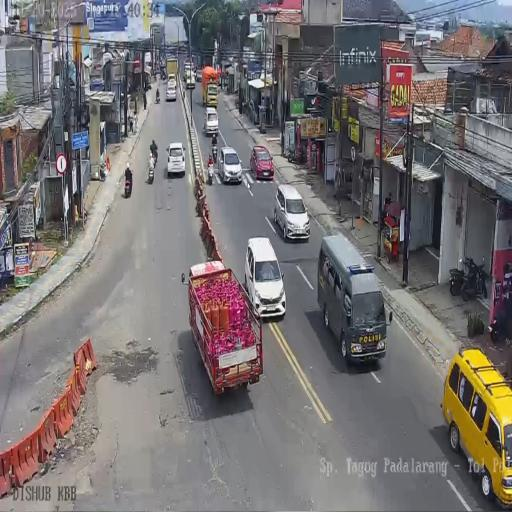3: (188, 260, 265, 395), (201, 66, 219, 108)
car: (442, 349, 512, 508), (316, 233, 386, 364), (247, 235, 289, 318), (276, 184, 310, 240), (218, 146, 242, 185), (250, 145, 274, 181), (167, 142, 186, 178), (204, 107, 219, 138), (184, 66, 196, 89), (166, 80, 177, 102), (196, 68, 203, 82)
truck: (461, 252, 487, 300), (490, 302, 511, 342), (124, 173, 132, 197), (211, 138, 218, 162), (208, 162, 214, 186), (160, 67, 166, 81), (156, 93, 160, 104), (154, 74, 157, 82)
